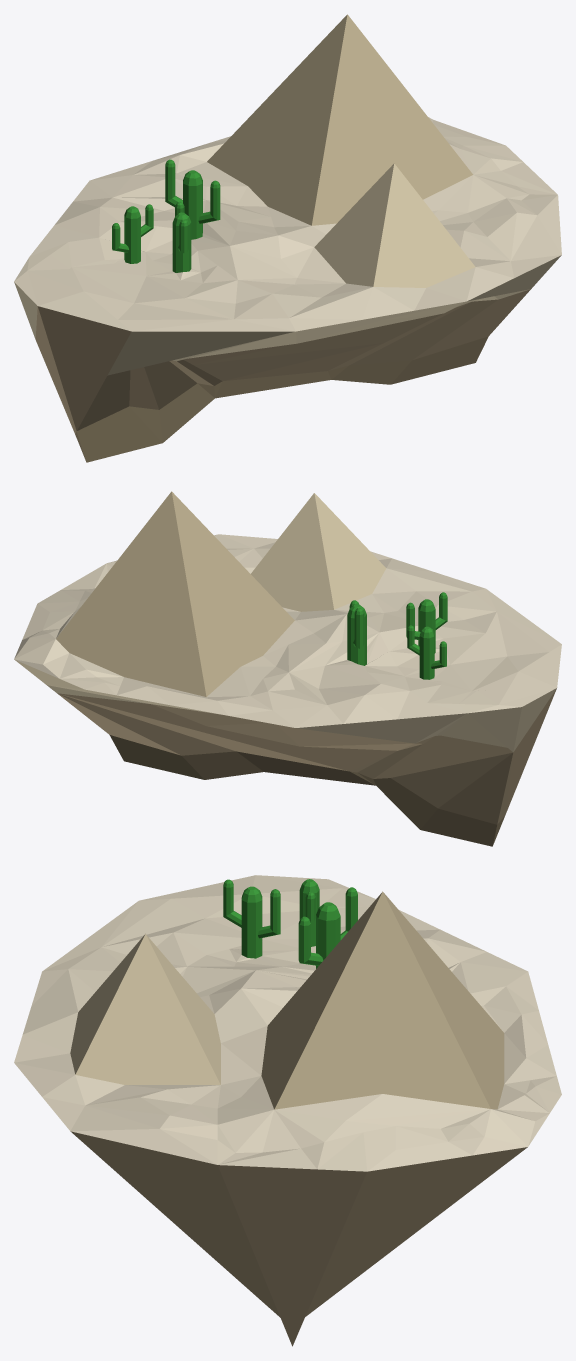
File: Desert V2.dae
3 renders of one model, top to bottom at view 1: azimuth 30°, elevation 25°; view 2: azimuth 150°, elevation 25°; view 3: azimuth 270°, elevation 25°, orthographic. The views are drawn at different scales.
Parts seen in each view (by area): view 1: SketchUp (×9); view 2: SketchUp (×9); view 3: SketchUp (×7).
Part boxes in pixels (left/top/right/bottom): SketchUp (×9): left=14, top=14, right=561, bottom=462; SketchUp (×9): left=14, top=491, right=561, bottom=846; SketchUp (×7): left=14, top=875, right=561, bottom=1346.
Bounding box in the file's own units: 231 × 180 × 146.
